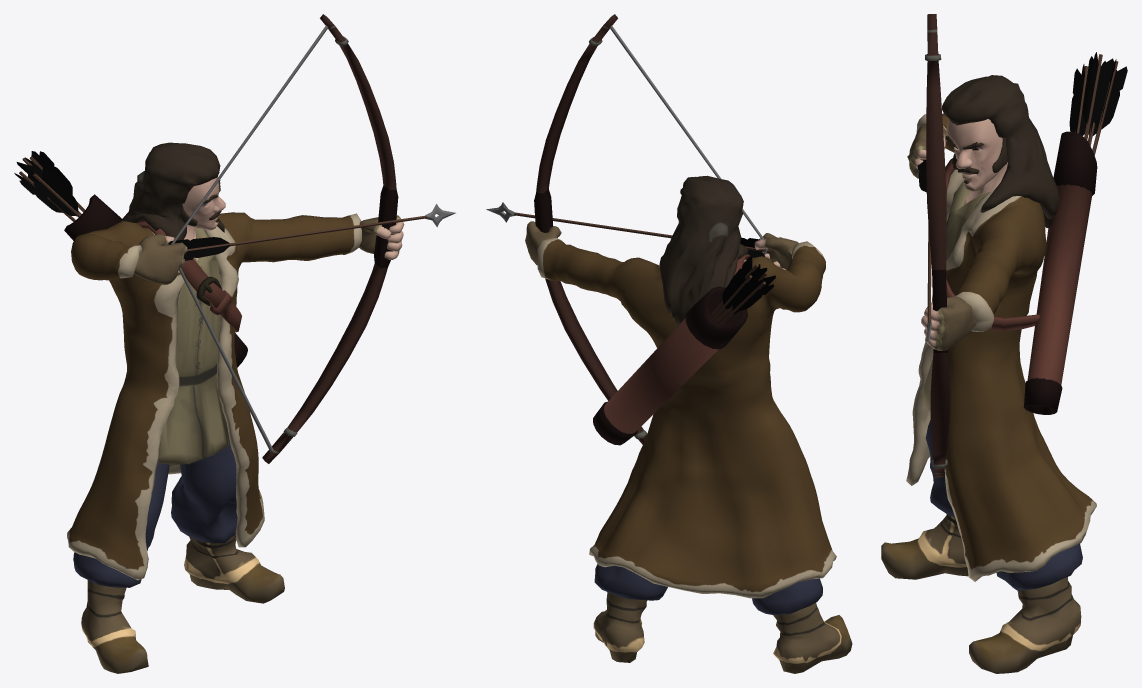
The picture shows the model from 3 angles, left to right: view 1: azimuth 30°, elevation 25°; view 2: azimuth 150°, elevation 25°; view 3: azimuth 270°, elevation 25°; orthographic projection. The views are drawn at different scales.
Visible parts, largest first — view 1: Pose Geometry; view 2: Pose Geometry; view 3: Pose Geometry.
Boxes of the visible parts, x1=… form: Pose Geometry: x1=14, y1=14, x2=455, y2=673; Pose Geometry: x1=486, y1=14, x2=852, y2=673; Pose Geometry: x1=881, y1=14, x2=1127, y2=673.
Size of the model in its own units: 1.59 by 2.48 by 0.823.
Materials: 4 (4 with a texture image).
